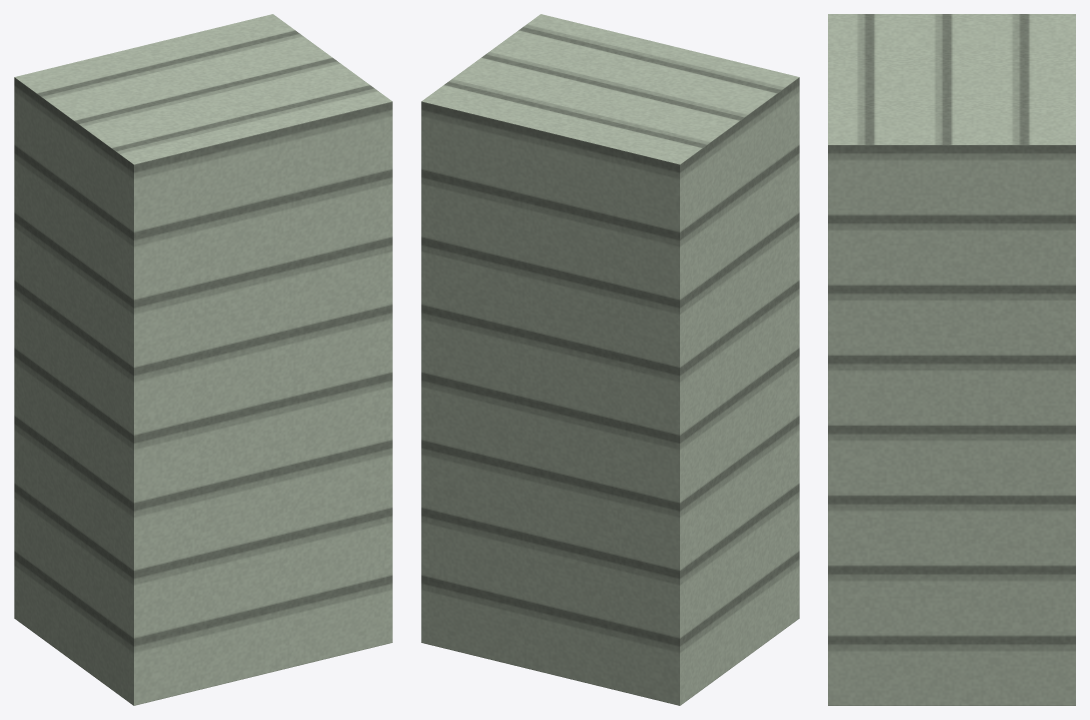
Rendered from welding_equipment.glb.
3 views of the same model, side by side, from view 1: azimuth 30°, elevation 25°; view 2: azimuth 150°, elevation 25°; view 3: azimuth 270°, elevation 25° (orthographic). The views are drawn at different scales.
Visible parts, largest first — view 1: welding_equipment-col; view 2: welding_equipment-col; view 3: welding_equipment-col.
Boxes of the visible parts, bbox=[...] form: welding_equipment-col: bbox=[14, 14, 392, 705]; welding_equipment-col: bbox=[421, 14, 799, 705]; welding_equipment-col: bbox=[828, 14, 1075, 705].
Bounding box in the file's own units: 0.5 × 1 × 0.4.
Materials: 1 (1 with a texture image).
